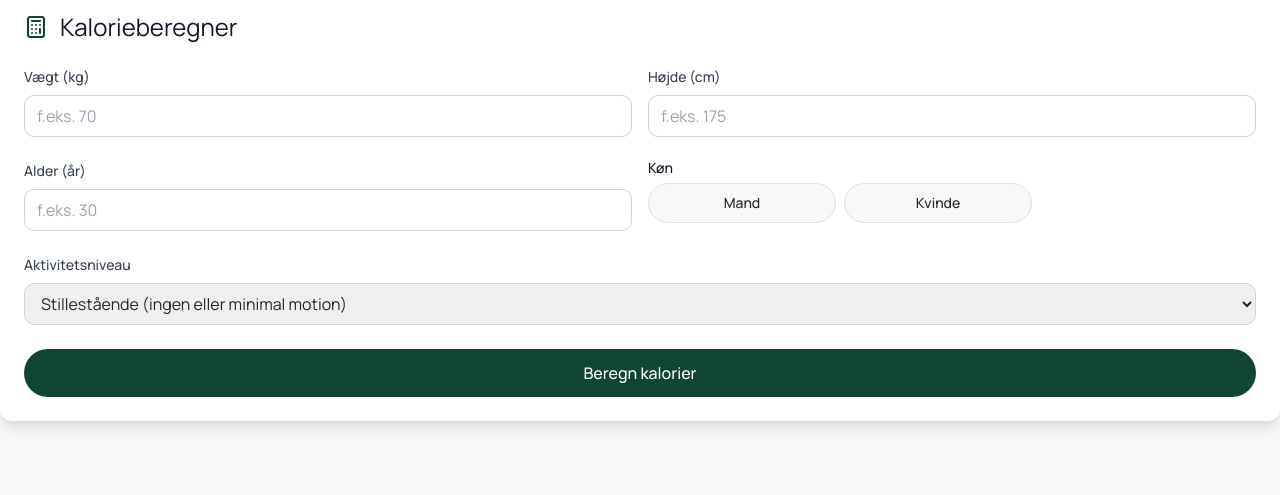
Test case: CalorieCalculator › keeps the calculate button enabled and names the missing fields
This screenshot has width=1280, height=495.
Expected: the button "Beregn kalorier" is enabled, [24,349,1256,397]
Type "70" into the number field labelled "Vægt (kg)" at (328, 116), box [24,95,632,137]
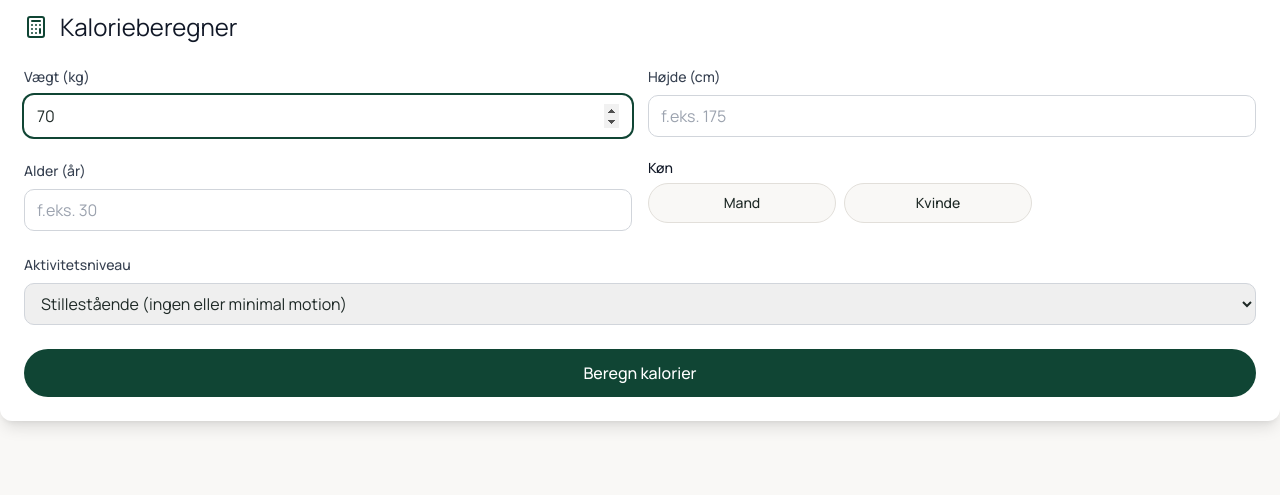
Click the button "Beregn kalorier" at (640, 373), box [24,349,1256,397]
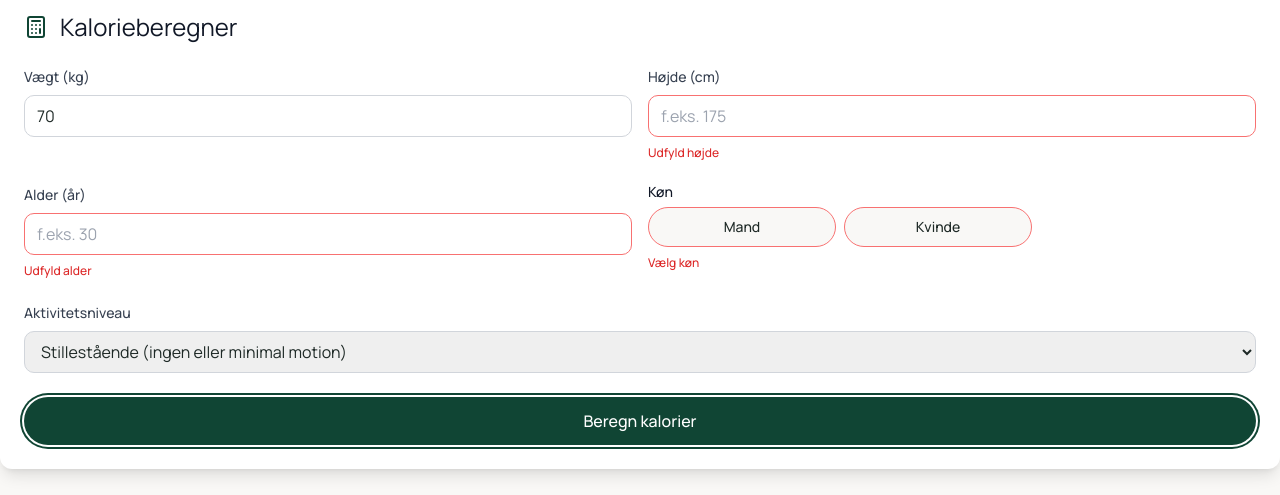
Expected: the text "Udfyld højde" is shown, [648,144,719,161]
Expected: the text "Udfyld alder" is shown, [24,262,92,279]
Expected: the text "Vælg køn" is shown, [648,254,699,271]
Click the button "Mand" at (742, 227), box [648,207,836,247]
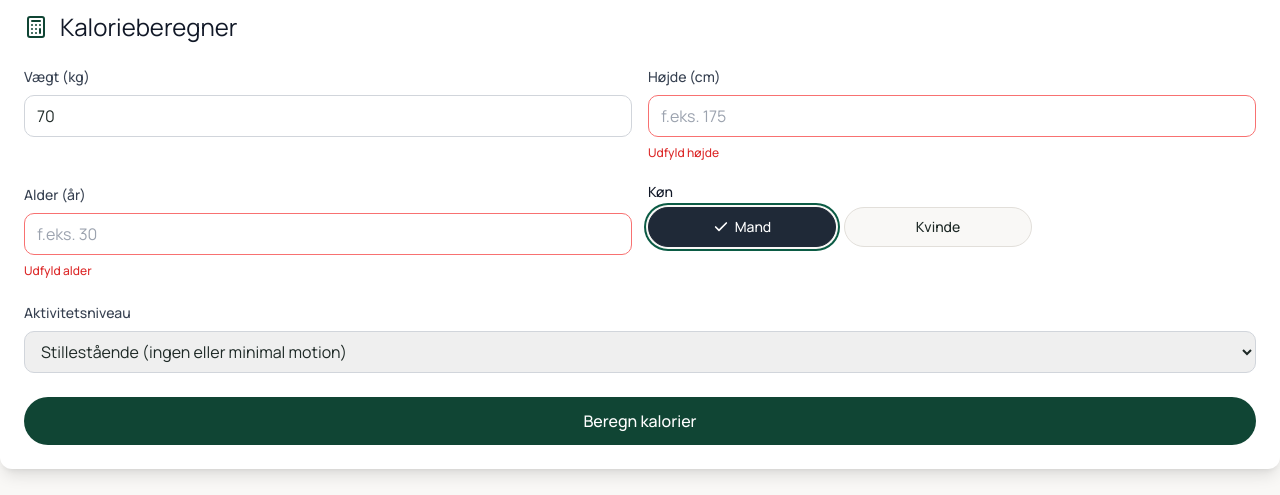
Expected: the text "Vælg køn" is gone
